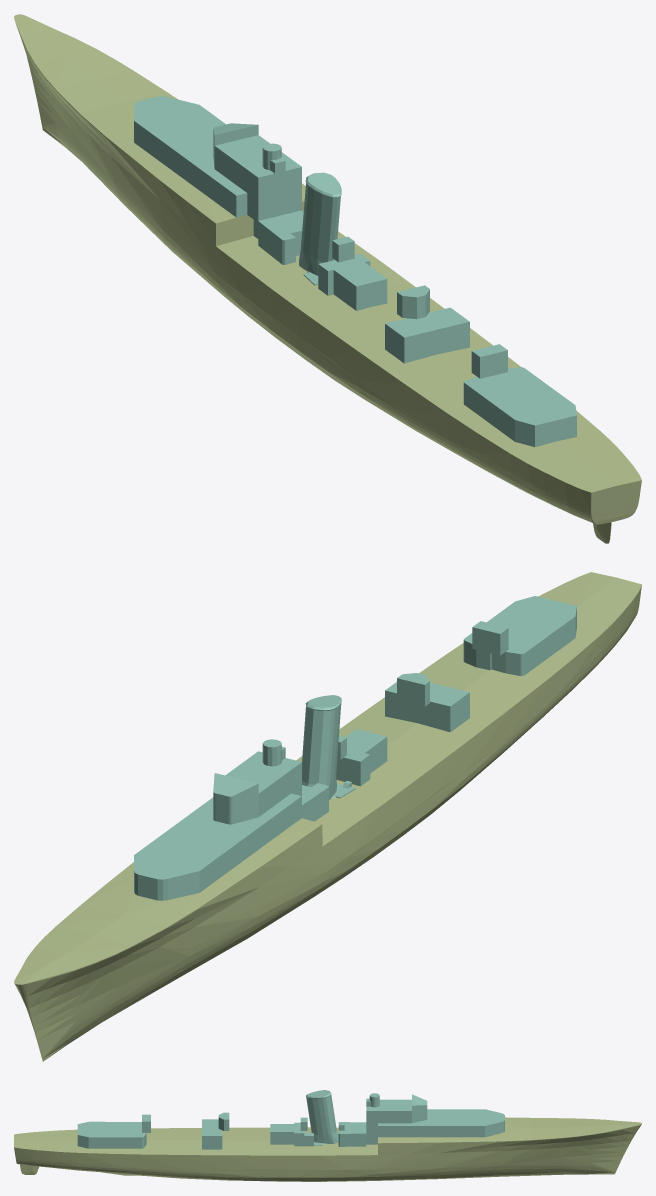
Rendered from PBSD719_armor.glb.
The picture shows the model from 3 angles, top to bottom: view 1: azimuth 30°, elevation 25°; view 2: azimuth 150°, elevation 25°; view 3: azimuth 270°, elevation 25°; orthographic projection. The views are drawn at different scales.
Parts seen in each view (by area): view 1: armor; view 2: armor; view 3: armor.
Part boxes in pixels (box(x1,y1,x2,y2)): armor: box(14, 14, 641, 543); armor: box(14, 572, 641, 1061); armor: box(14, 1090, 641, 1181).
Size of the model in its own units: 21.24 by 29.1 by 200.
